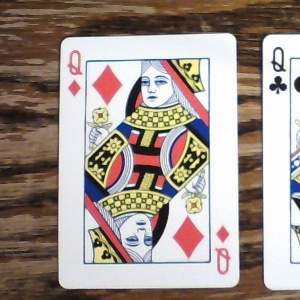card: (57, 32, 242, 286)
